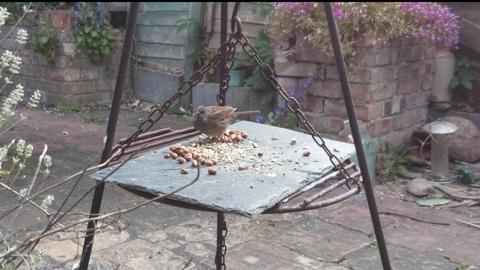dunnock: (193, 106, 260, 144)
